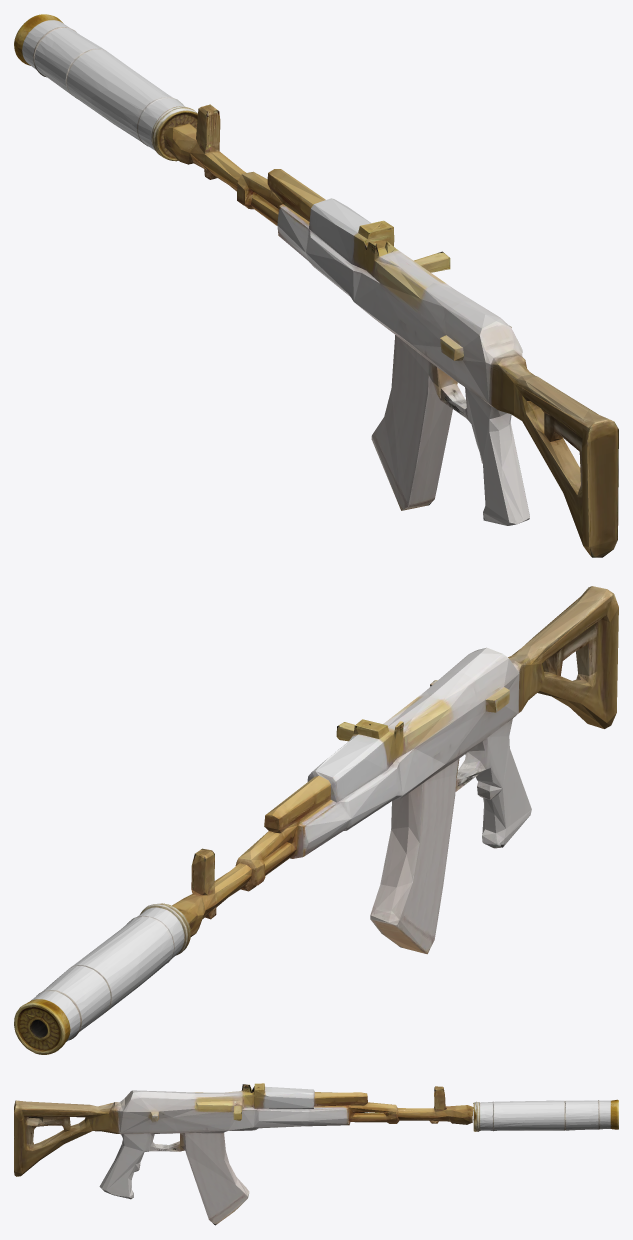
The model's file is white_aks74u_suppressed.glb.
3 renders of one model, top to bottom at view 1: azimuth 30°, elevation 25°; view 2: azimuth 150°, elevation 25°; view 3: azimuth 270°, elevation 25°, orthographic. The views are drawn at different scales.
Visible parts, largest first — view 1: white_aks74u_suppressed; view 2: white_aks74u_suppressed; view 3: white_aks74u_suppressed.
Part boxes in pixels (<box>): white_aks74u_suppressed: <box>14,14,618,557</box>; white_aks74u_suppressed: <box>14,586,618,1054</box>; white_aks74u_suppressed: <box>14,1083,618,1225</box>.
Size of the model in its own units: 0.0704 by 0.2096 by 0.8451.
Materials: 2 (2 with a texture image).
